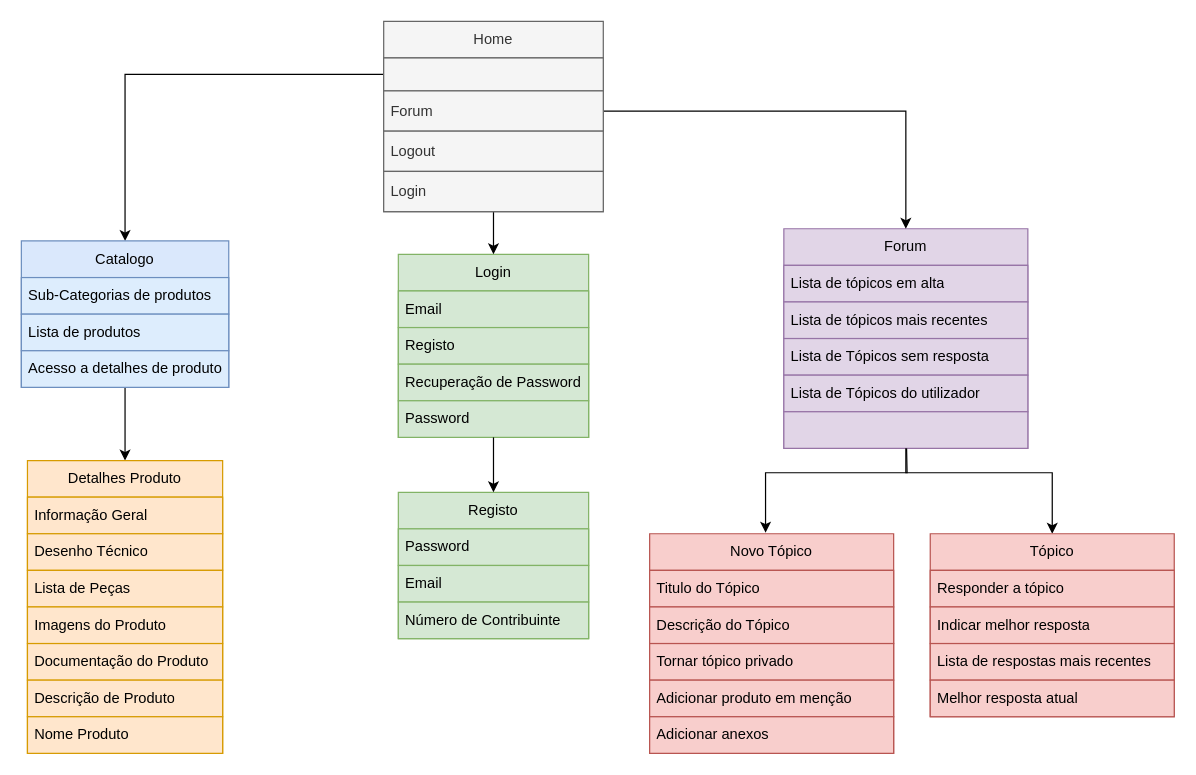
Image size: 1196x775. Some labels were removed from this diagram. Here are the shapes that lost their labels. From the top down, the centre of each, then its label:
At [492,74]: "Categorias Catálogo".
At [905,429]: "Criar um tópico".
